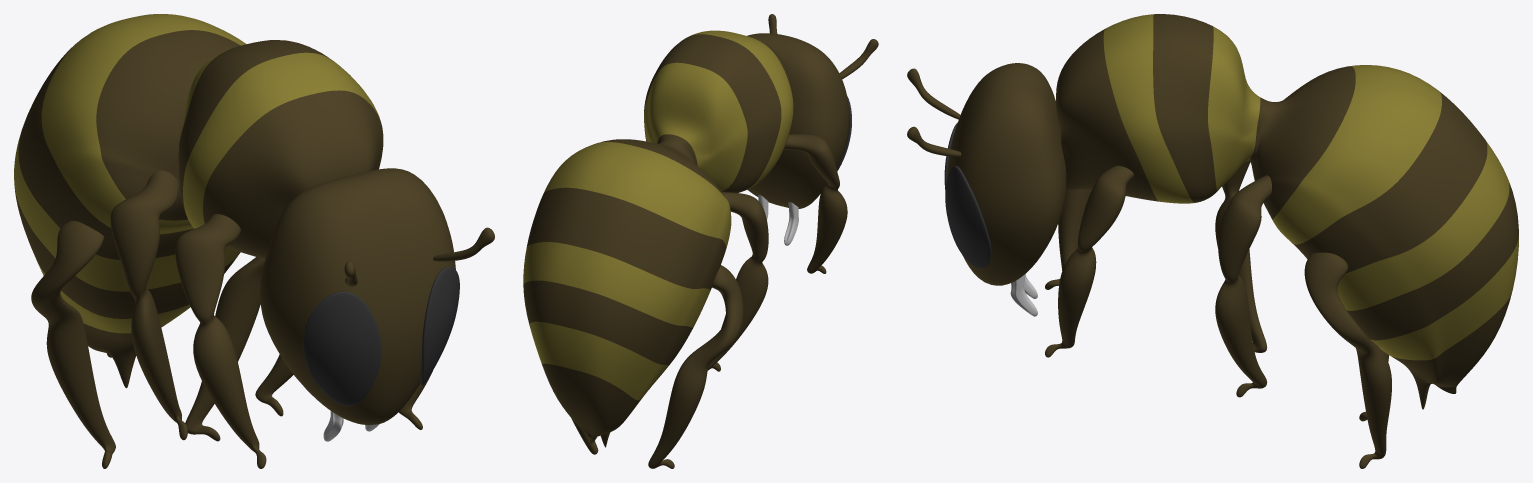
Rendered from Bee Flying Textured 2.fbx.
The picture shows the model from 3 angles, left to right: view 1: azimuth 30°, elevation 25°; view 2: azimuth 150°, elevation 25°; view 3: azimuth 270°, elevation 25°; orthographic projection. The views are drawn at different scales.
Visible parts, largest first — view 1: polySurface58; view 2: polySurface58; view 3: polySurface58.
Part boxes in pixels (x1,y1,x2,y2): polySurface58: (14,14,494,468); polySurface58: (523,14,878,468); polySurface58: (907,14,1518,468).
Size of the model in its own units: 6.91 by 11.91 by 15.67.
